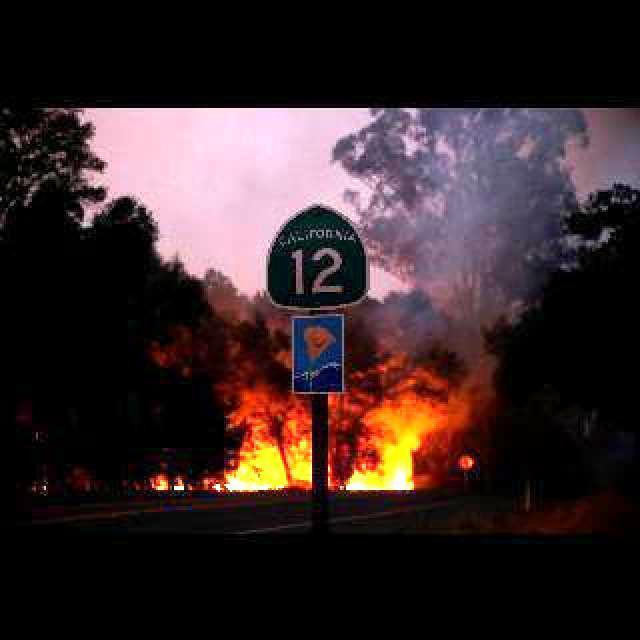Fire: (218, 358, 450, 488), (144, 470, 192, 494)
Smoke: (386, 113, 588, 337)
